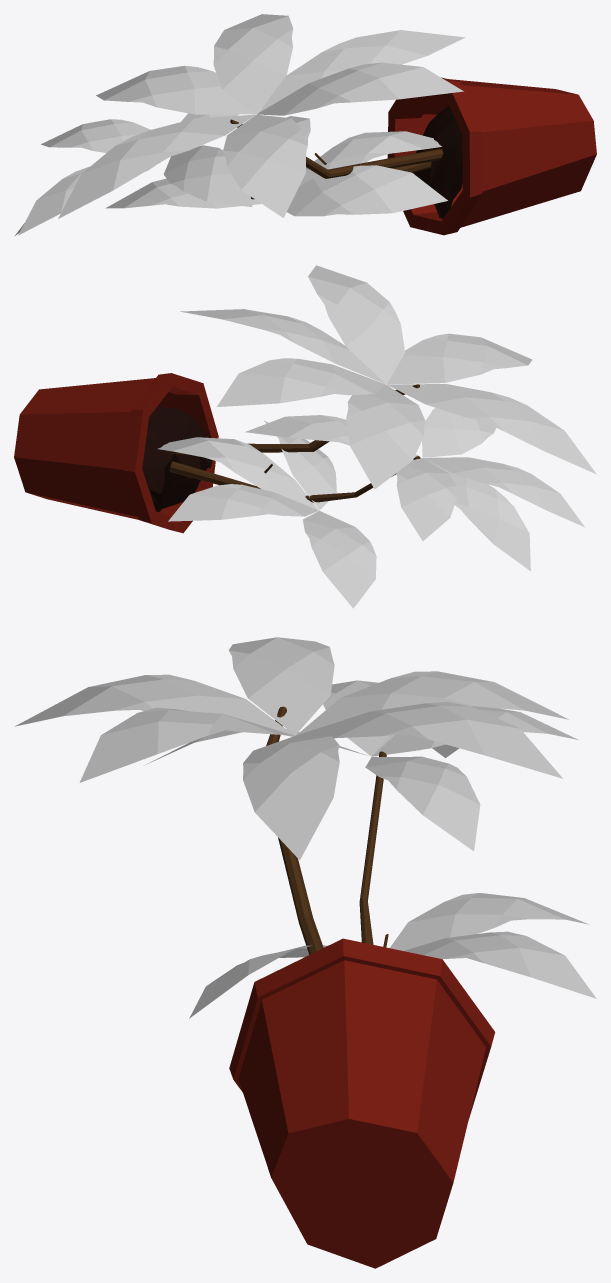
File: PotPlantTippd.fbx
3 renders of one model, top to bottom at view 1: azimuth 30°, elevation 25°; view 2: azimuth 150°, elevation 25°; view 3: azimuth 270°, elevation 25°, orthographic. The views are drawn at different scales.
Parts seen in each view (by area): view 1: pot; view 2: pot; view 3: pot.
Part boxes in pixels (x1,y1,x2,y2): pot: (14,14,596,236); pot: (14,265,596,608); pot: (15,637,596,1268).
Size of the model in its own units: 759 by 430 by 293.
